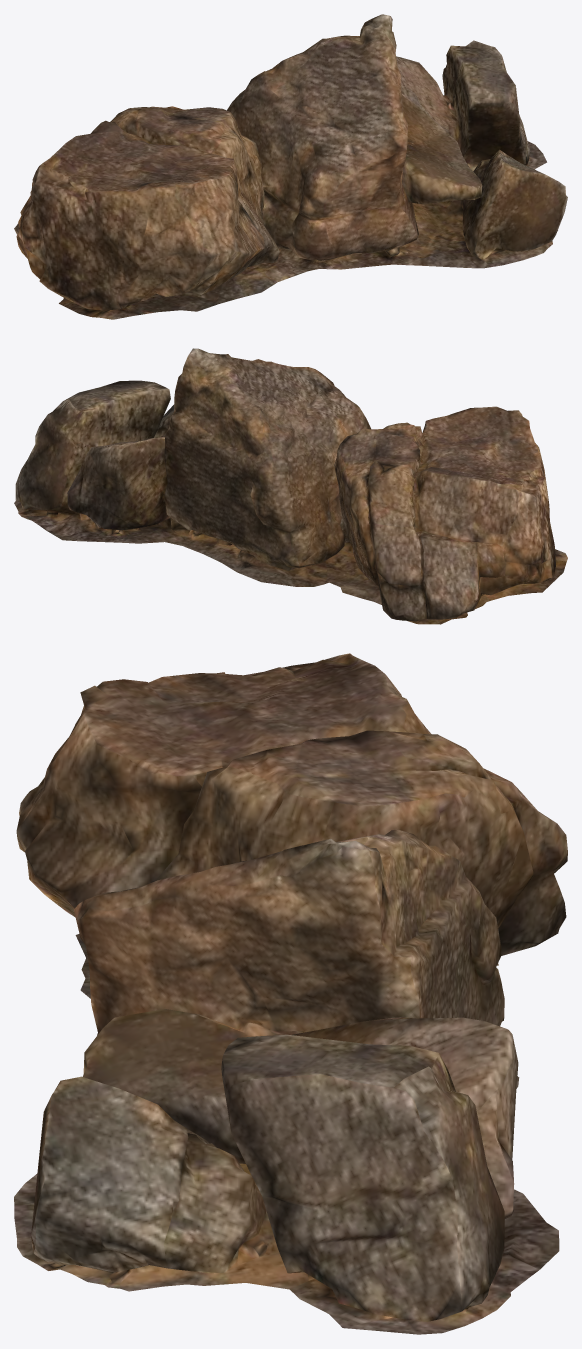
Rendered from boulder_a.glb.
The picture shows the model from 3 angles, top to bottom: view 1: azimuth 30°, elevation 25°; view 2: azimuth 150°, elevation 25°; view 3: azimuth 270°, elevation 25°; orthographic projection. The views are drawn at different scales.
Parts seen in each view (by area): view 1: boulder_02; view 2: boulder_02; view 3: boulder_02.
Part boxes in pixels (x1,y1,x2,y2): boulder_02: [14, 14, 567, 319]; boulder_02: [14, 348, 567, 624]; boulder_02: [14, 653, 567, 1334].
Size of the model in its own units: 2.52 by 0.8802 by 1.23.
Materials: 1 (1 with a texture image).
